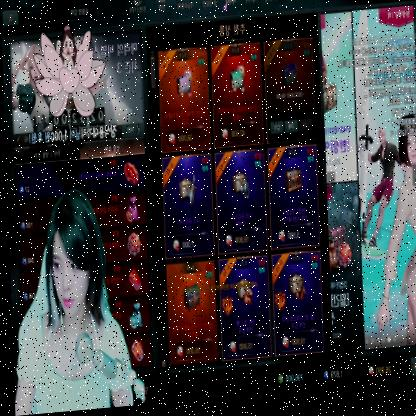streamer: (6, 186, 130, 416)
